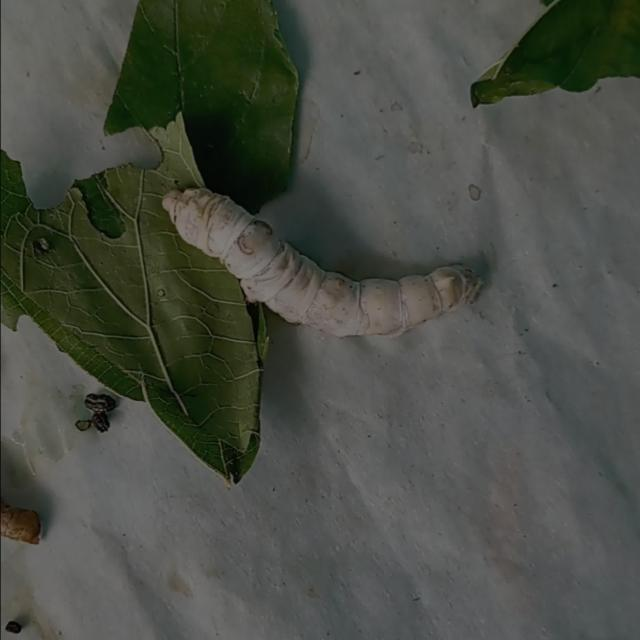Grasserie: (150, 147, 504, 394)
